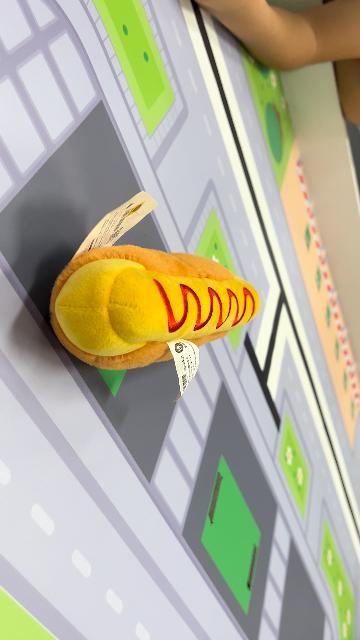hotdog: (49, 244, 262, 372)
